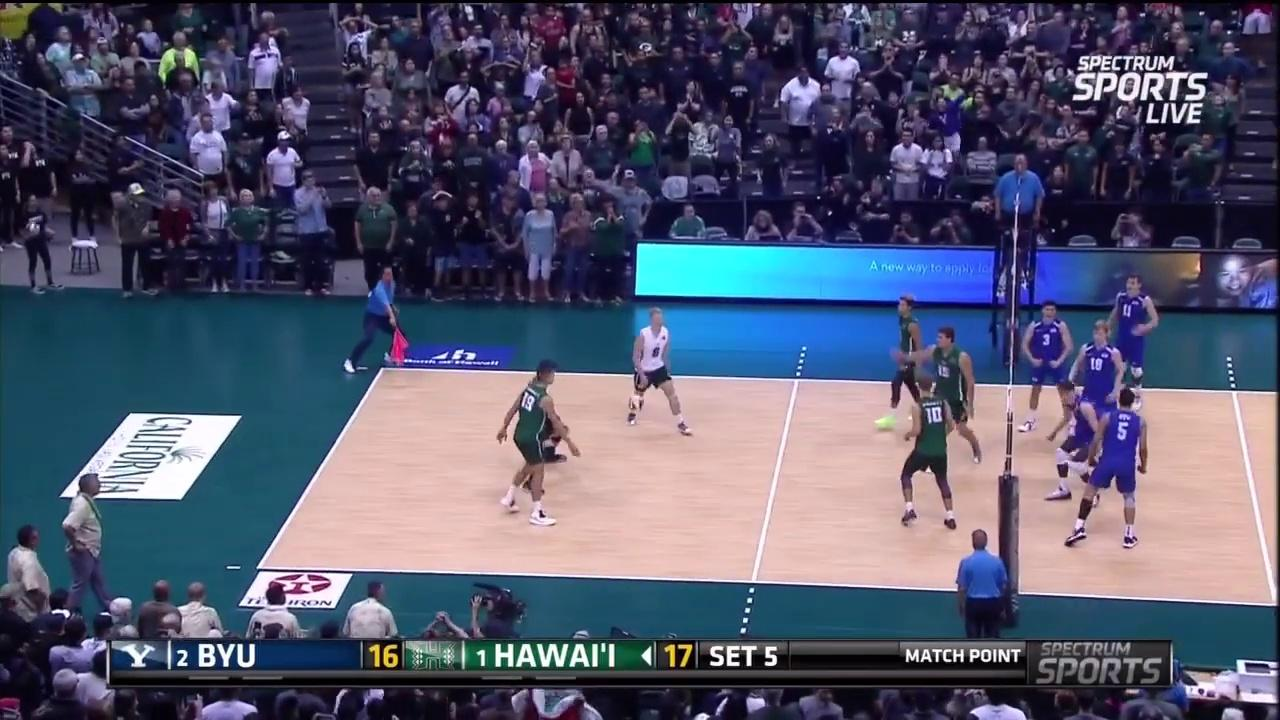player: (1061, 389, 1151, 551), (911, 320, 991, 461), (499, 359, 564, 531), (898, 374, 962, 534), (1072, 316, 1125, 475), (624, 310, 691, 431), (874, 287, 929, 434), (1106, 270, 1160, 409), (514, 391, 581, 500), (1049, 376, 1106, 501), (1026, 297, 1070, 428)
refree: (953, 526, 1017, 641), (342, 267, 407, 372), (994, 153, 1046, 281)
